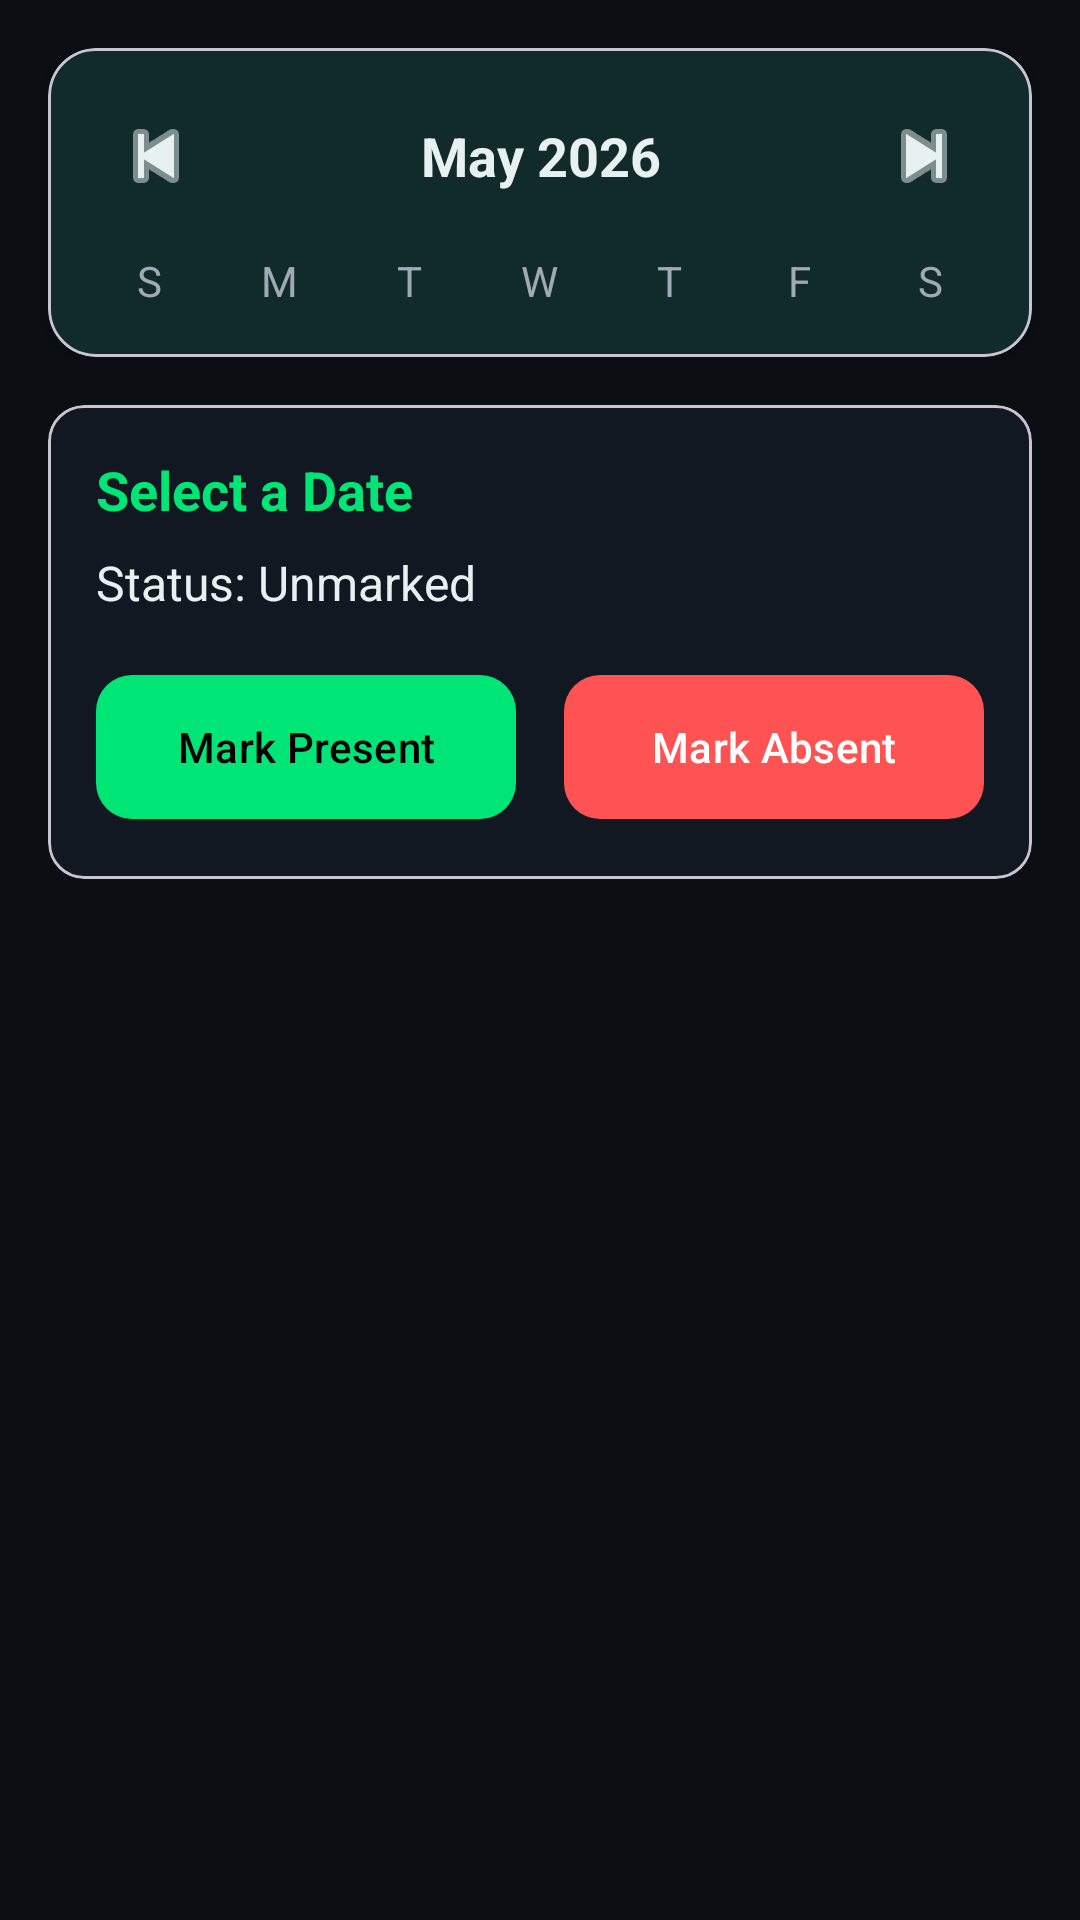

Where to tap for icons on this 1080×1920 app screen, as point (x, y):
next: point (924, 156)
previous: point (156, 156)
